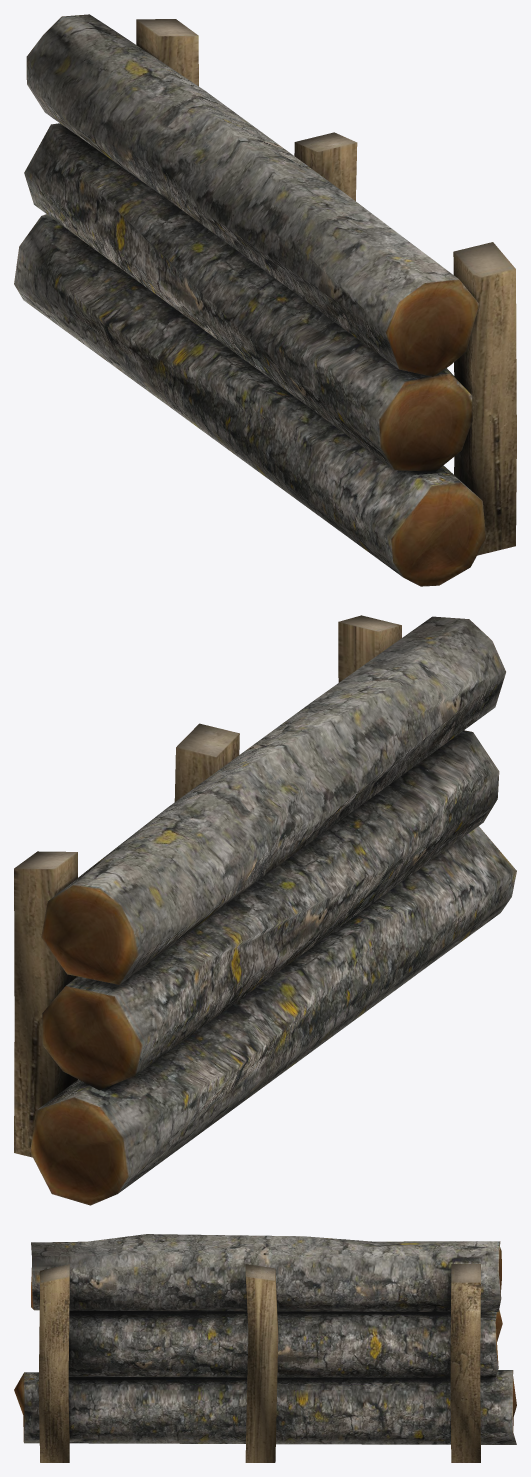
The model's file is log_fence_fortification_free_download.glb.
The picture shows the model from 3 angles, top to bottom: view 1: azimuth 30°, elevation 25°; view 2: azimuth 150°, elevation 25°; view 3: azimuth 270°, elevation 25°; orthographic projection. The views are drawn at different scales.
Parts seen in each view (by area): view 1: Cube; view 2: Cube; view 3: Cube.
Part boxes in pixels (box(x1,y1,x2,y2)): Cube: box(14, 14, 516, 586); Cube: box(14, 615, 516, 1205); Cube: box(14, 1234, 516, 1462).
Bounding box in the file's own units: 163 × 324 × 732.
1 material, 1 textured.
